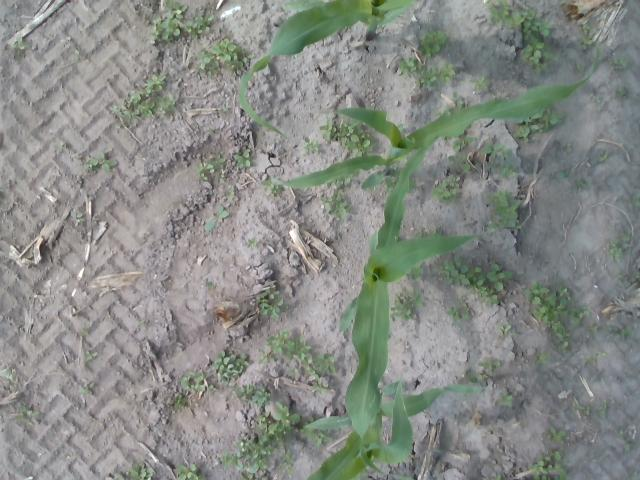Maize: (338, 136, 497, 480), (270, 41, 600, 190), (238, 1, 417, 141), (303, 379, 484, 480)
Weeds: (215, 401, 302, 480), (522, 279, 590, 356), (488, 0, 558, 73), (258, 330, 336, 394), (168, 350, 248, 410), (434, 256, 513, 308), (394, 28, 460, 89), (108, 75, 176, 127), (146, 0, 218, 45), (194, 37, 254, 78), (319, 118, 372, 157), (514, 112, 566, 146), (486, 190, 522, 228), (391, 286, 424, 324), (528, 450, 566, 480), (194, 154, 228, 183), (320, 192, 354, 221), (256, 288, 285, 322), (236, 382, 272, 406), (606, 228, 632, 261), (203, 204, 232, 233), (430, 176, 460, 204), (480, 138, 514, 161), (444, 296, 470, 326), (490, 163, 522, 184), (85, 153, 118, 172), (118, 463, 153, 480), (614, 269, 640, 291), (172, 464, 207, 480), (608, 324, 636, 344), (302, 430, 334, 447), (454, 135, 479, 155), (495, 389, 515, 412), (15, 404, 40, 422), (478, 358, 500, 378), (448, 154, 472, 172), (0, 364, 16, 391), (10, 36, 28, 60), (580, 22, 594, 52), (233, 149, 252, 170), (260, 180, 282, 198), (301, 138, 321, 156), (585, 350, 605, 368), (545, 427, 566, 444), (469, 75, 488, 93), (596, 398, 611, 420), (570, 401, 591, 416), (497, 324, 514, 342), (80, 379, 96, 396), (464, 367, 479, 384), (608, 56, 626, 70), (449, 92, 464, 108), (333, 178, 351, 191), (411, 266, 424, 283), (535, 350, 550, 364), (72, 210, 85, 226), (54, 136, 68, 150), (616, 86, 629, 100), (591, 321, 603, 336), (558, 168, 572, 180), (85, 350, 97, 364), (599, 150, 610, 164), (410, 176, 419, 192), (80, 326, 92, 338), (576, 179, 588, 190), (204, 278, 215, 290), (624, 441, 636, 452), (247, 237, 260, 247), (632, 192, 640, 208), (226, 186, 234, 200), (142, 231, 152, 242), (139, 319, 149, 329), (169, 198, 178, 208), (416, 228, 426, 237), (627, 472, 638, 480), (618, 428, 628, 436), (576, 63, 583, 73), (491, 474, 502, 480), (220, 106, 228, 114), (434, 111, 444, 117), (437, 228, 442, 234)
